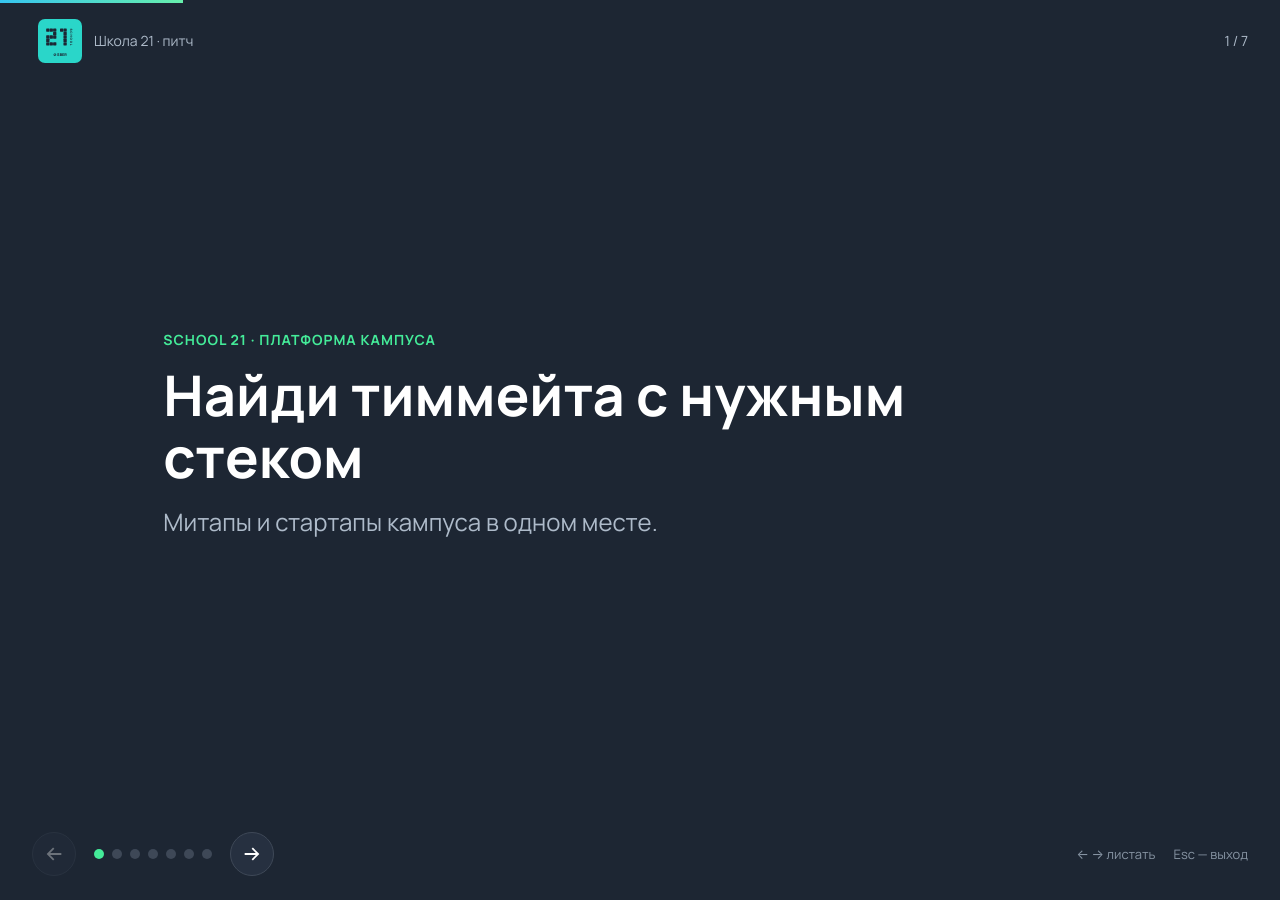
Scenario: PitchPage › dots jump to a slide
Click the button named "Слайд 3".
click(135, 854)  # box x1=130 y1=849 x2=140 y2=859
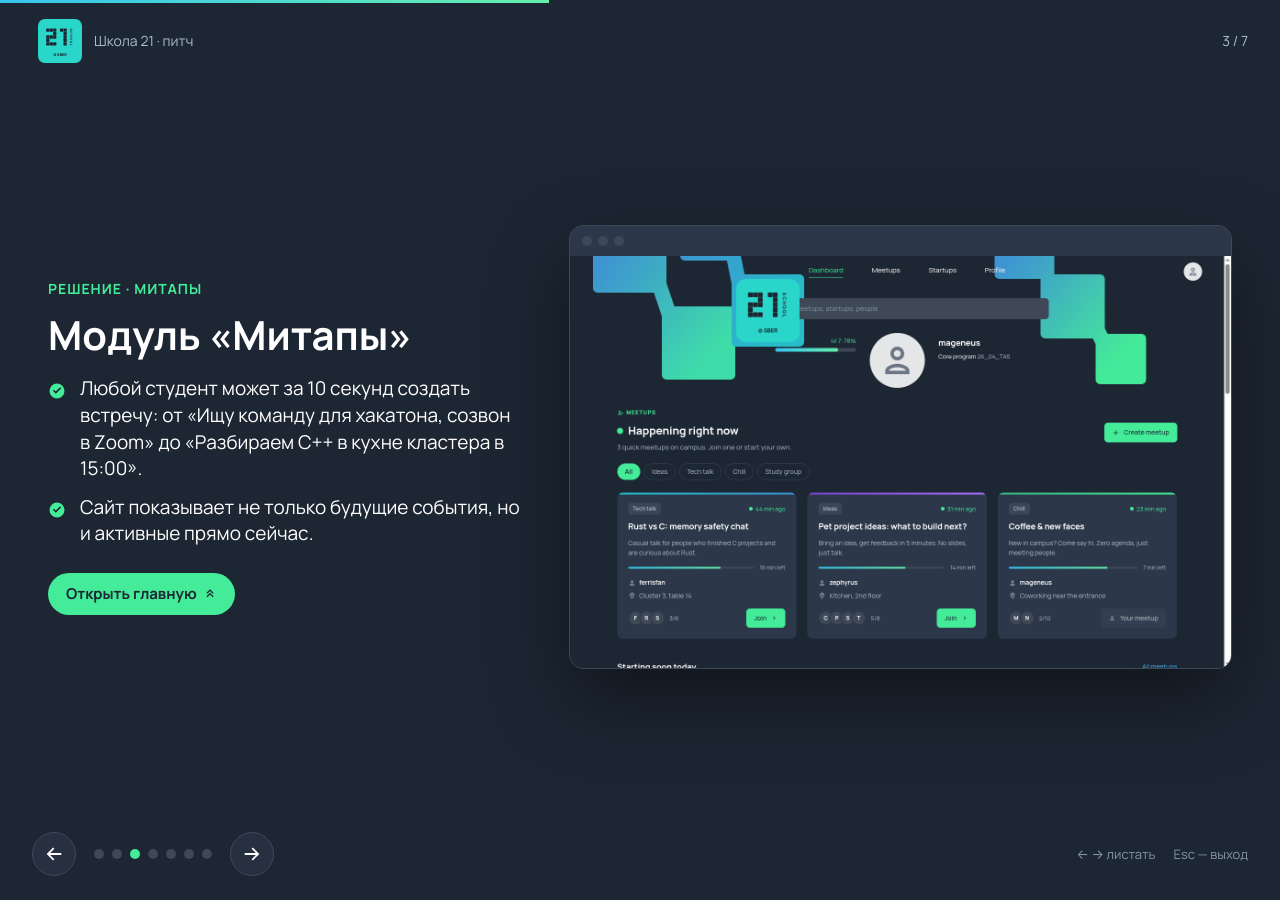
Result: the text "Модуль «Митапы»" is shown at x1=48 y1=308 x2=412 y2=362
